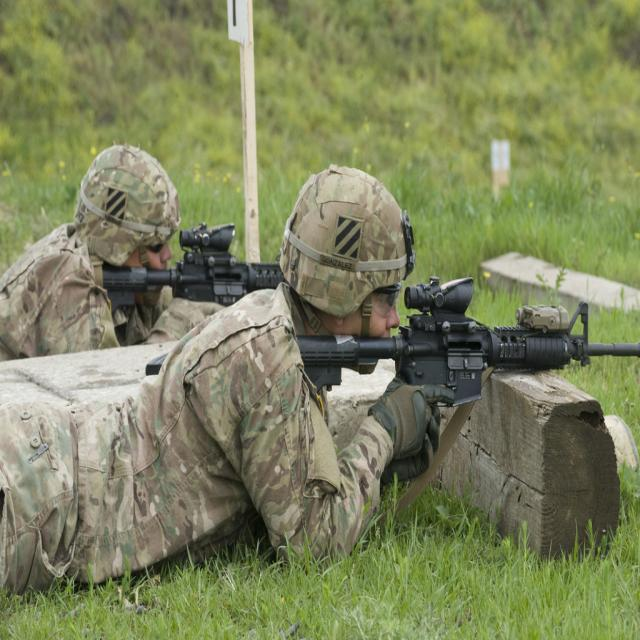weapon: (297, 274, 640, 409), (102, 219, 284, 315)
